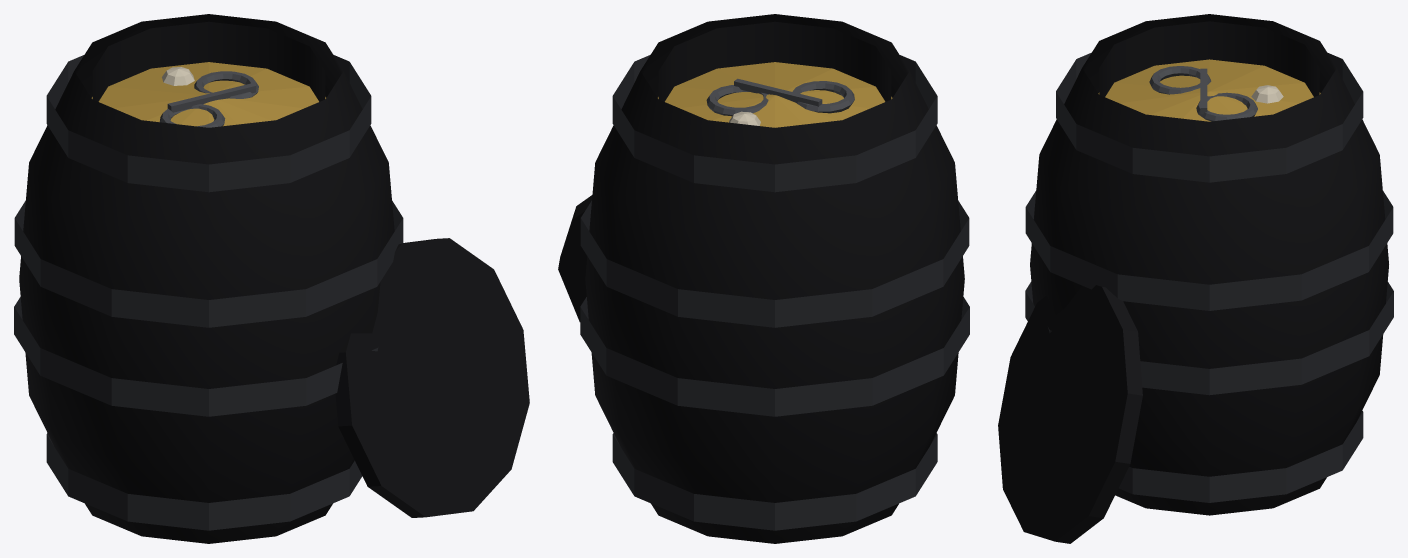
Rendered from SM_Barrel_Prison_05_Open.glb.
3 views of the same model, side by side, from view 1: azimuth 30°, elevation 25°; view 2: azimuth 150°, elevation 25°; view 3: azimuth 270°, elevation 25° (orthographic). The views are drawn at different scales.
Parts seen in each view (by area): view 1: SM_Barrel_Prison_05_Open_Body, SM_Barrel_Prison_05_Open_LidProp, SM_Barrel_Prison_05_Open_Hoop2, SM_Barrel_Prison_05_Open_Hoop3, SM_Barrel_Prison_05_Open_Hoop1, SM_Barrel_Prison_05_Open_Hoop0, SM_Barrel_Prison_05_Open_StrawBed, SM_Barrel_Prison_05_Open_ManacleBar, SM_Barrel_Prison_05_Open_Manacle1; view 2: SM_Barrel_Prison_05_Open_Body, SM_Barrel_Prison_05_Open_Hoop2, SM_Barrel_Prison_05_Open_Hoop1, SM_Barrel_Prison_05_Open_Hoop3, SM_Barrel_Prison_05_Open_Hoop0, SM_Barrel_Prison_05_Open_StrawBed, SM_Barrel_Prison_05_Open_LidProp, SM_Barrel_Prison_05_Open_Manacle0, SM_Barrel_Prison_05_Open_Manacle1, SM_Barrel_Prison_05_Open_ManacleBar; view 3: SM_Barrel_Prison_05_Open_Body, SM_Barrel_Prison_05_Open_LidProp, SM_Barrel_Prison_05_Open_Hoop2, SM_Barrel_Prison_05_Open_Hoop3, SM_Barrel_Prison_05_Open_StrawBed, SM_Barrel_Prison_05_Open_Hoop1, SM_Barrel_Prison_05_Open_Hoop0, SM_Barrel_Prison_05_Open_Manacle0, SM_Barrel_Prison_05_Open_Manacle1.
Boxes of the visible parts, bbox=[...] form: SM_Barrel_Prison_05_Open_Body: bbox=[19, 14, 394, 543]; SM_Barrel_Prison_05_Open_LidProp: bbox=[335, 238, 529, 517]; SM_Barrel_Prison_05_Open_Hoop2: bbox=[14, 200, 403, 327]; SM_Barrel_Prison_05_Open_Hoop3: bbox=[46, 55, 371, 192]; SM_Barrel_Prison_05_Open_Hoop1: bbox=[14, 297, 378, 416]; SM_Barrel_Prison_05_Open_Hoop0: bbox=[46, 433, 362, 530]; SM_Barrel_Prison_05_Open_StrawBed: bbox=[91, 62, 325, 126]; SM_Barrel_Prison_05_Open_ManacleBar: bbox=[167, 83, 256, 112]; SM_Barrel_Prison_05_Open_Manacle1: bbox=[194, 71, 258, 98]; SM_Barrel_Prison_05_Open_Body: bbox=[585, 14, 964, 543]; SM_Barrel_Prison_05_Open_Hoop2: bbox=[580, 200, 969, 327]; SM_Barrel_Prison_05_Open_Hoop1: bbox=[580, 297, 969, 416]; SM_Barrel_Prison_05_Open_Hoop3: bbox=[612, 55, 937, 192]; SM_Barrel_Prison_05_Open_Hoop0: bbox=[612, 433, 937, 530]; SM_Barrel_Prison_05_Open_StrawBed: bbox=[658, 62, 892, 127]; SM_Barrel_Prison_05_Open_LidProp: bbox=[558, 195, 592, 321]; SM_Barrel_Prison_05_Open_Manacle0: bbox=[792, 81, 854, 113]; SM_Barrel_Prison_05_Open_Manacle1: bbox=[706, 85, 768, 116]; SM_Barrel_Prison_05_Open_ManacleBar: bbox=[734, 78, 822, 106]; SM_Barrel_Prison_05_Open_Body: bbox=[1030, 14, 1388, 515]; SM_Barrel_Prison_05_Open_LidProp: bbox=[998, 285, 1142, 543]; SM_Barrel_Prison_05_Open_Hoop2: bbox=[1025, 190, 1393, 310]; SM_Barrel_Prison_05_Open_Hoop3: bbox=[1056, 52, 1363, 182]; SM_Barrel_Prison_05_Open_StrawBed: bbox=[1098, 59, 1320, 121]; SM_Barrel_Prison_05_Open_Hoop1: bbox=[1025, 281, 1393, 395]; SM_Barrel_Prison_05_Open_Hoop0: bbox=[1119, 410, 1363, 502]; SM_Barrel_Prison_05_Open_Manacle0: bbox=[1149, 66, 1211, 94]; SM_Barrel_Prison_05_Open_Manacle1: bbox=[1196, 92, 1257, 121].
Bounding box in the file's own units: 0.8174 × 0.75 × 0.6833.
